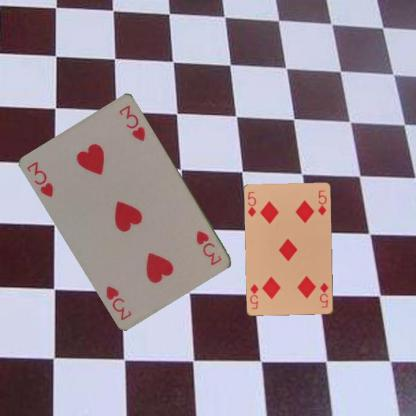3h: (24, 159, 55, 199), (194, 226, 224, 267)
5d: (246, 190, 258, 218), (318, 280, 329, 309)
